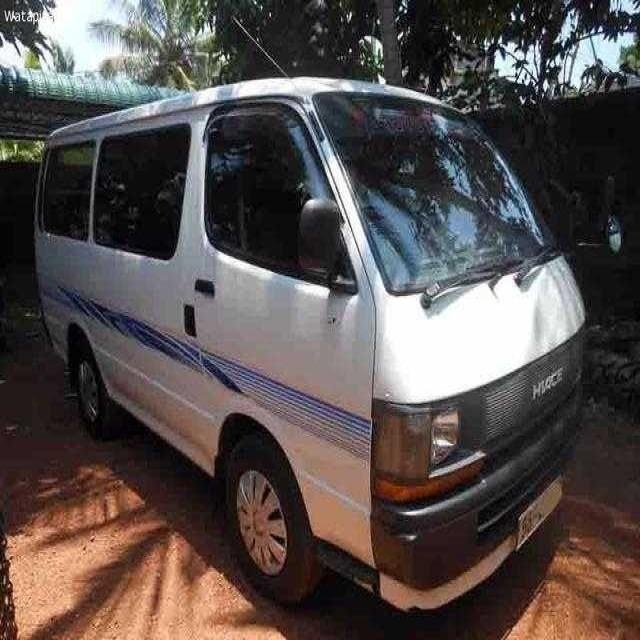Van: (36, 71, 588, 629)
